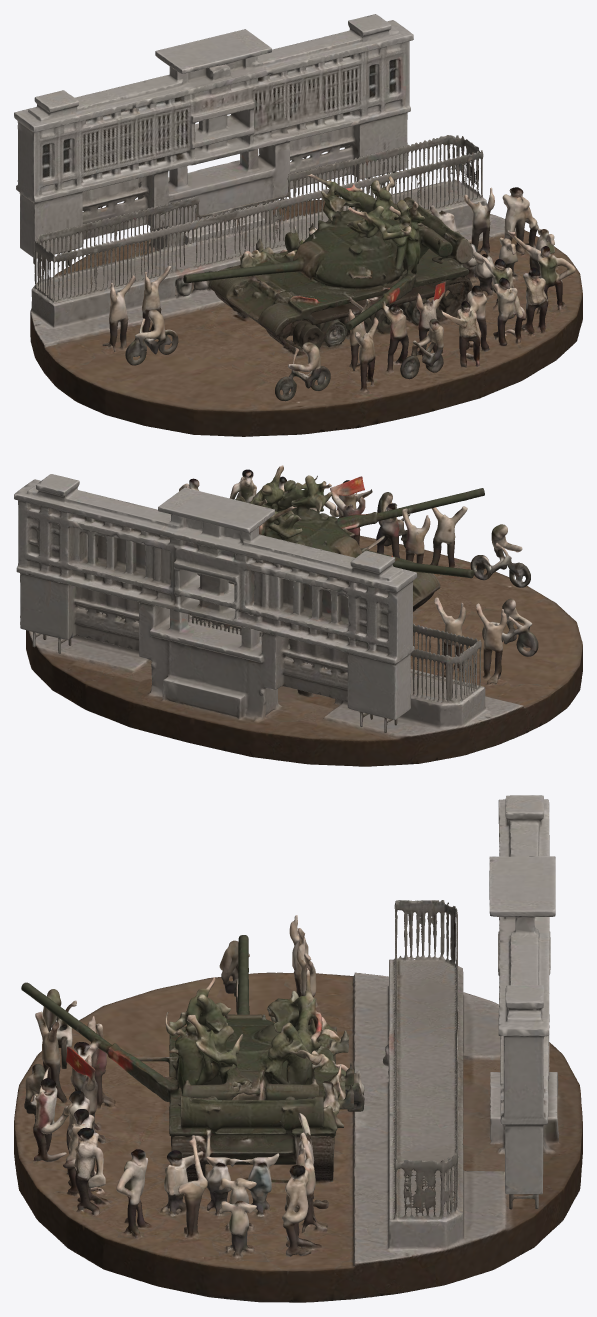
Rendered from chien_thang_van_tuong.glb.
3 views of the same model, one above another, from view 1: azimuth 30°, elevation 25°; view 2: azimuth 150°, elevation 25°; view 3: azimuth 270°, elevation 25° (orthographic). The views are drawn at different scales.
Bounding box in the file's own units: 1.89 × 0.792 × 1.52.
1 material, 1 textured.
